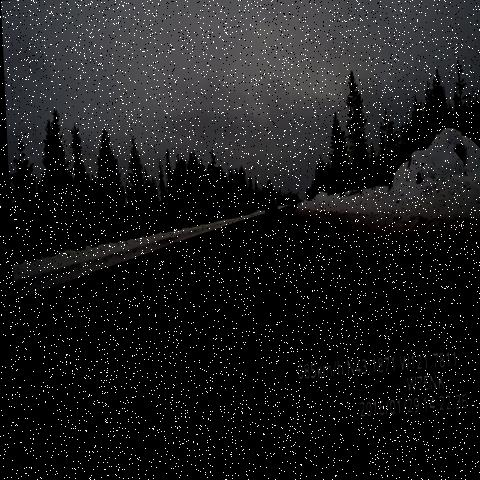pothole: (143, 252, 187, 297), (205, 223, 242, 253), (260, 259, 283, 279), (259, 243, 280, 259)
